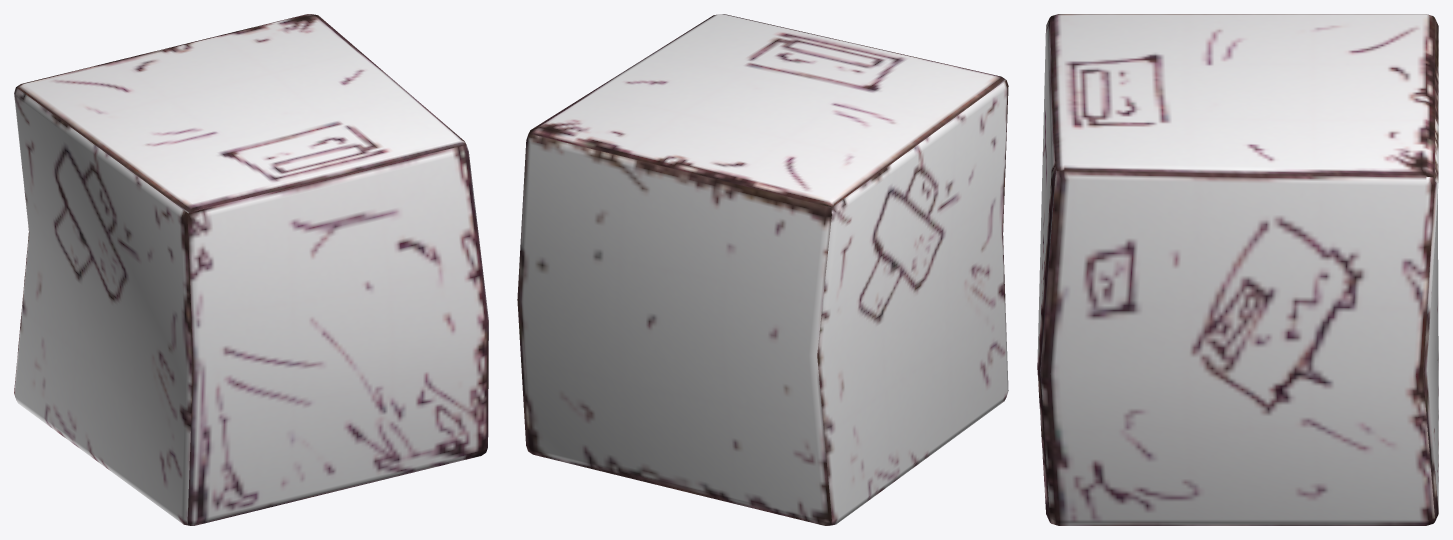
3 views of the same model, side by side, from view 1: azimuth 30°, elevation 25°; view 2: azimuth 150°, elevation 25°; view 3: azimuth 270°, elevation 25° (orthographic). The views are drawn at different scales.
Parts seen in each view (by area): view 1: CardboardBox 1; view 2: CardboardBox 1; view 3: CardboardBox 1.
Boxes of the visible parts, x1=… form: CardboardBox 1: x1=14, y1=14, x2=488, y2=525; CardboardBox 1: x1=517, y1=14, x2=1008, y2=525; CardboardBox 1: x1=1037, y1=14, x2=1438, y2=525.
Size of the model in its own units: 50.22 by 48.09 by 49.15.
Materials: 1 (1 with a texture image).
